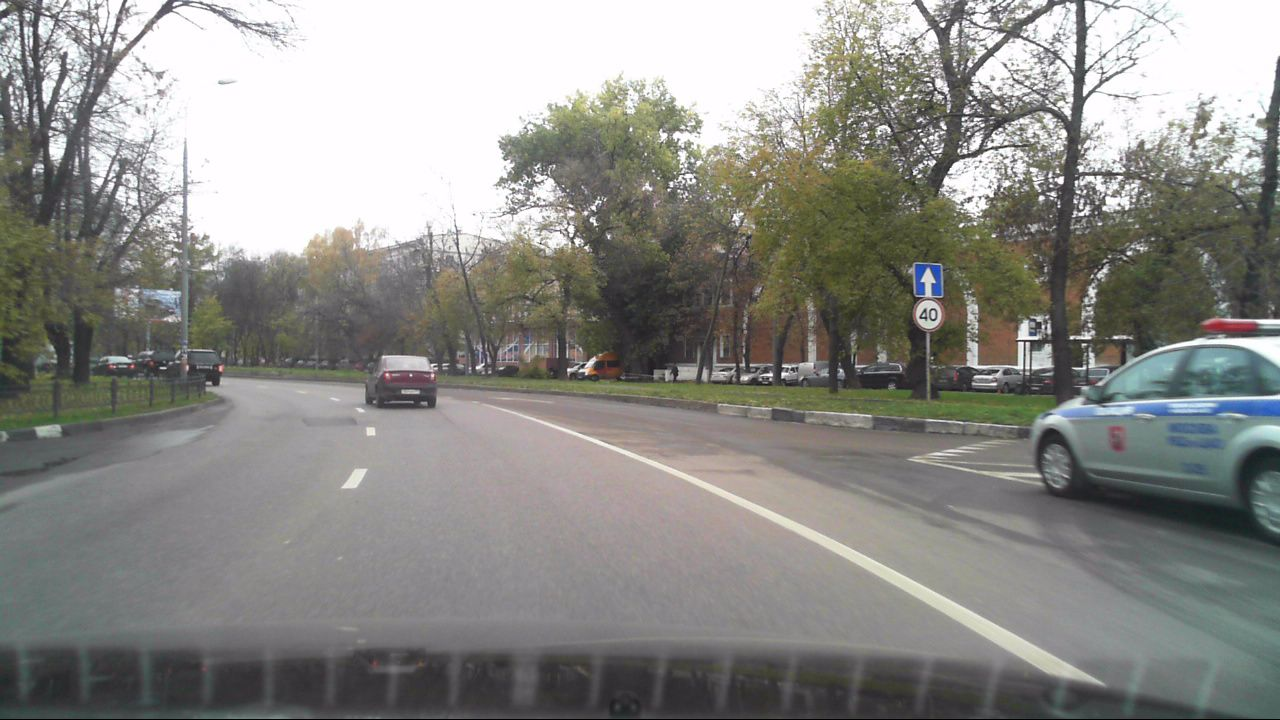speed_warning_40: (914, 295, 942, 331)
